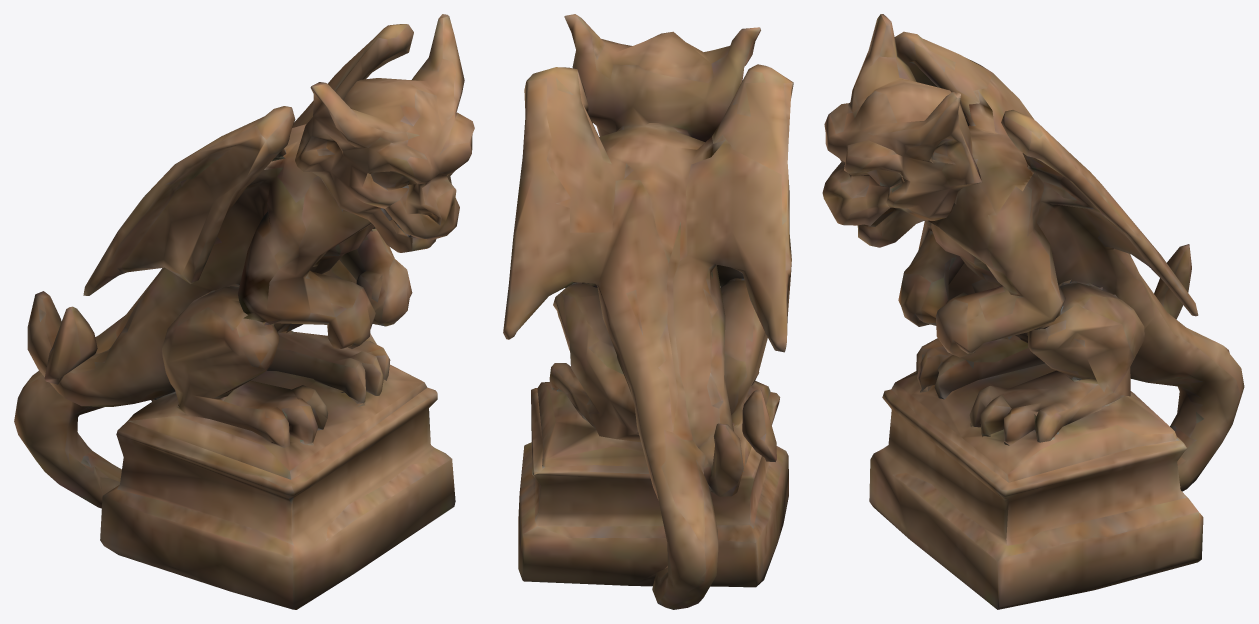
File: simple-sandstone-gargoyle-v001.glb
The picture shows the model from 3 angles, left to right: view 1: azimuth 30°, elevation 25°; view 2: azimuth 150°, elevation 25°; view 3: azimuth 270°, elevation 25°; orthographic projection. The views are drawn at different scales.
Parts seen in each view (by area): view 1: simple-sandstone-gargoyle; view 2: simple-sandstone-gargoyle; view 3: simple-sandstone-gargoyle.
Part boxes in pixels (x1,y1,x2,y2): simple-sandstone-gargoyle: (14,14,474,609); simple-sandstone-gargoyle: (503,14,793,609); simple-sandstone-gargoyle: (822,14,1244,609).
Size of the model in its own units: 0.6117 by 0.8771 by 0.6611.
1 material, 1 textured.
